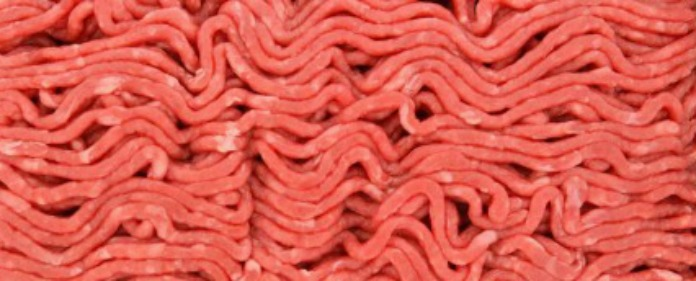ground_beef: (7, 7, 685, 278)
